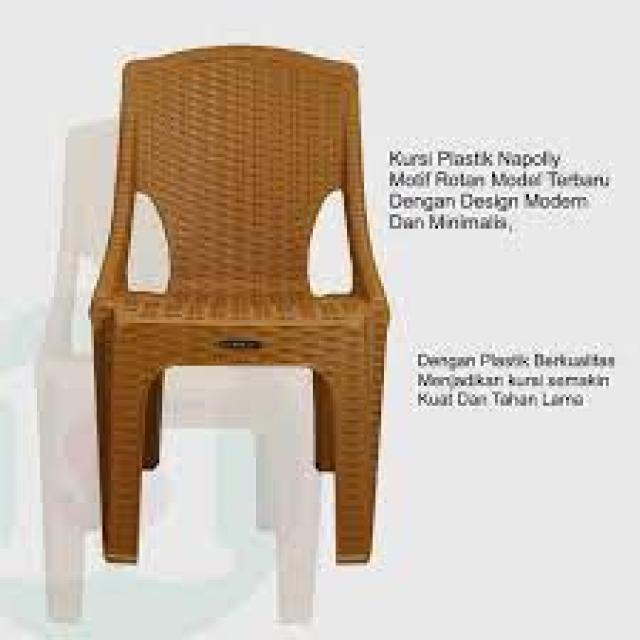chair: (84, 36, 400, 581)
